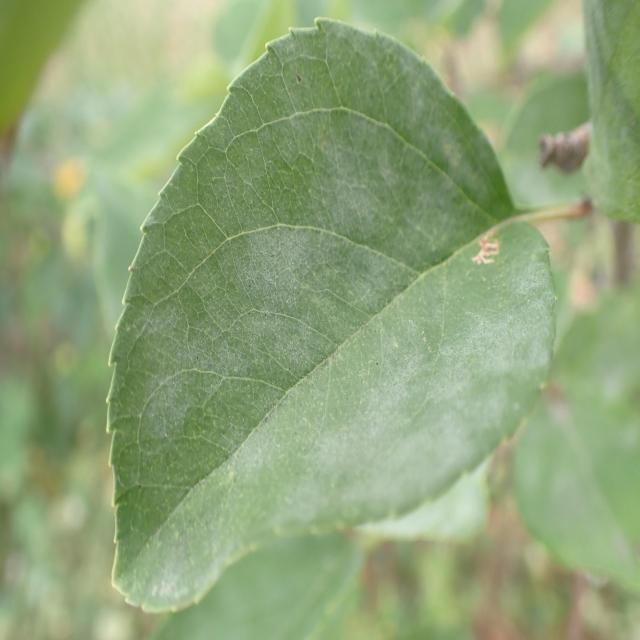Powdery_mildew: (99, 9, 582, 610)
